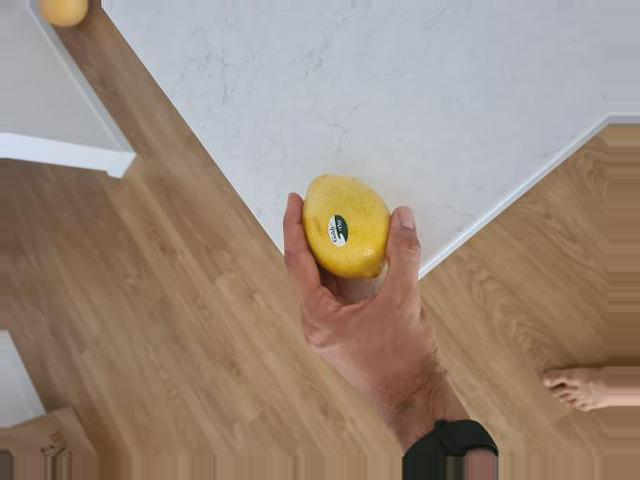lemon: (298, 172, 392, 283)
